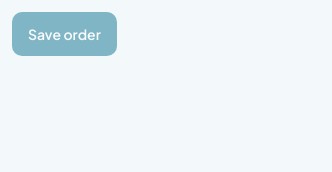
Test: Button offline › blocks a server action offline, keeps it focusable and explains why
Later steps or results of the test are not shown.
Click the button "Save order". click: coordinates (64, 34)
box: [12,12,117,56]
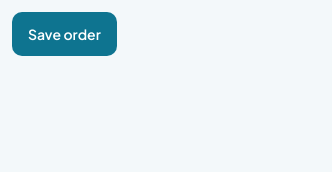
Expected: the button "Save order" does not have attribute aria-disabled, [12,12,117,56]
